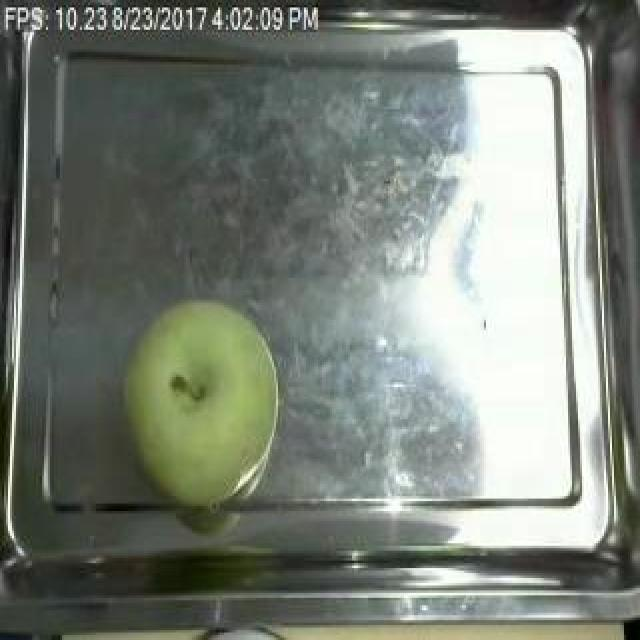Rotten Apple: (111, 291, 291, 542)
